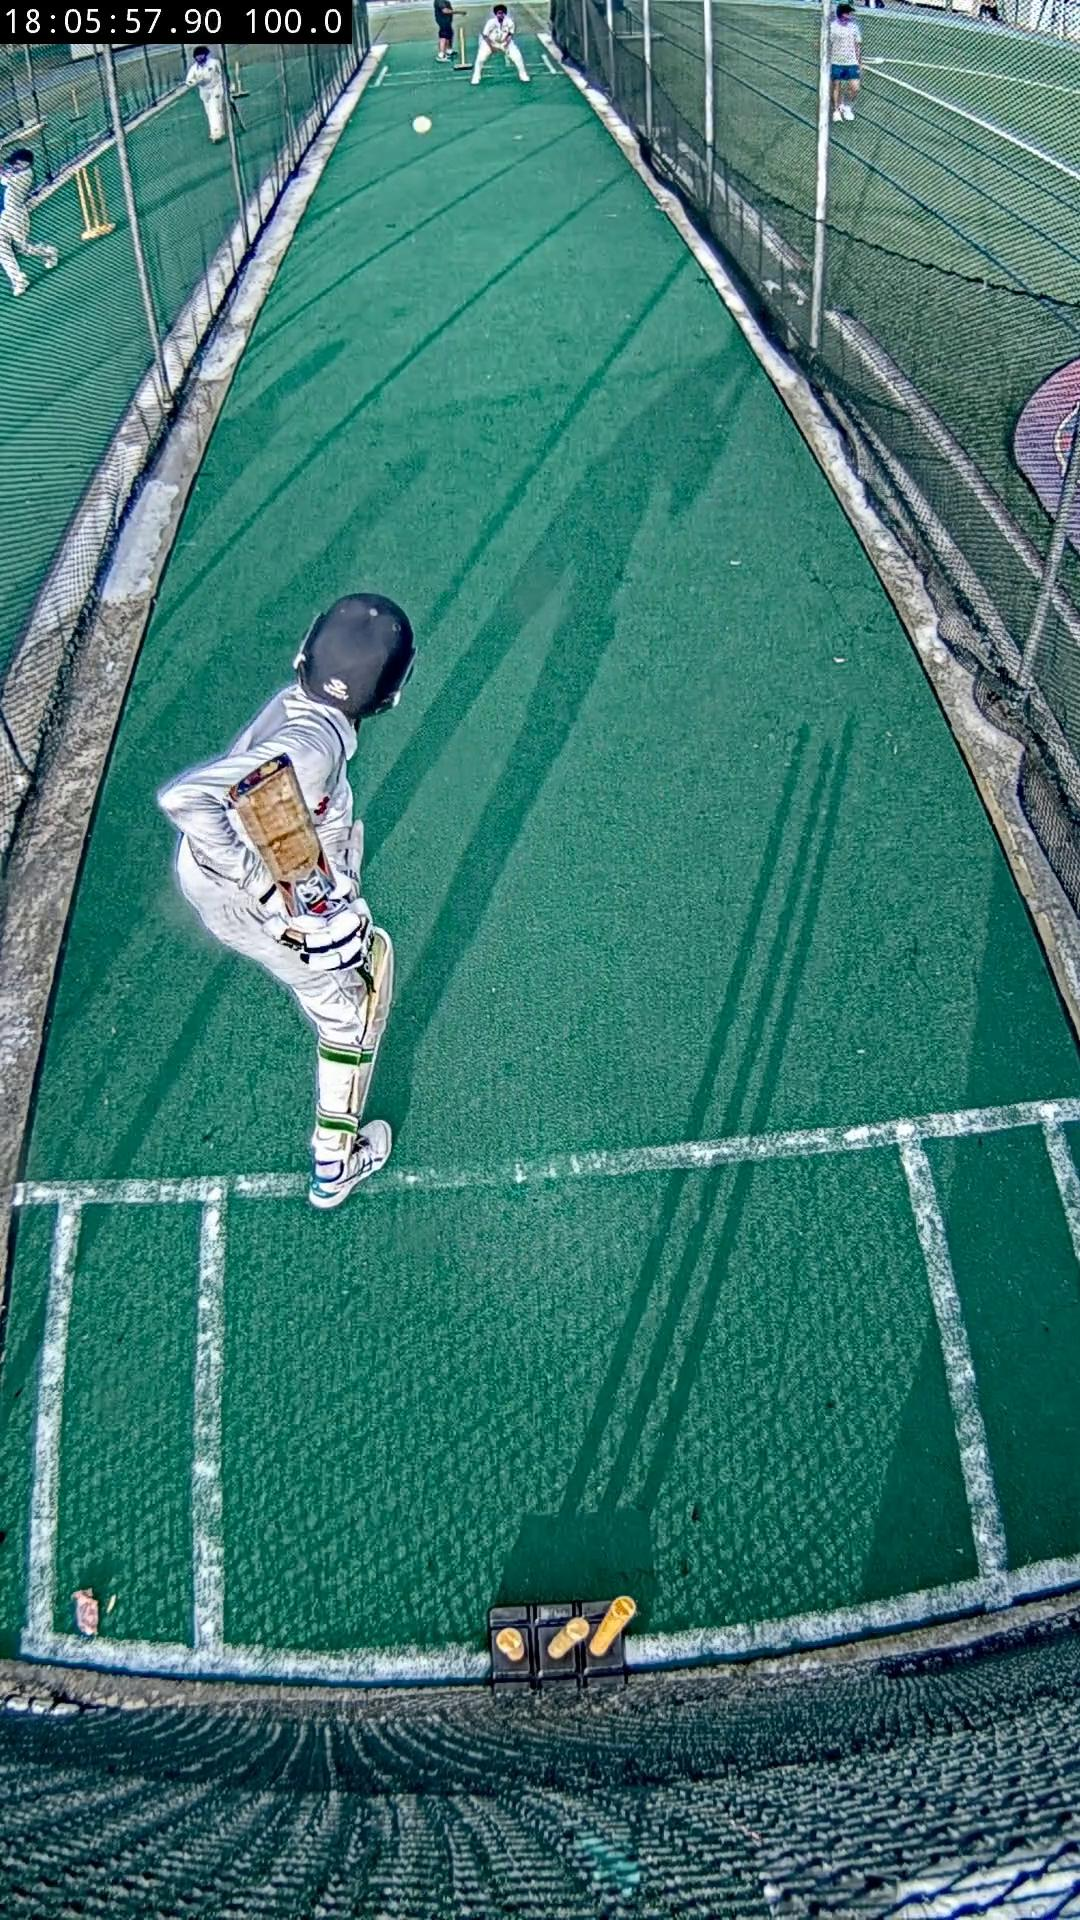ball: (413, 116, 431, 133)
bat: (228, 754, 334, 915)
gloves: (262, 899, 372, 972)
helmet: (297, 592, 417, 720)
pads: (360, 926, 394, 1108)
stumps: (488, 1594, 637, 1688)
